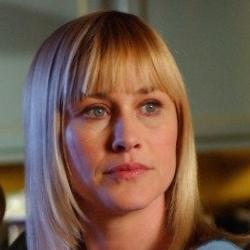face: (8, 7, 212, 238)
